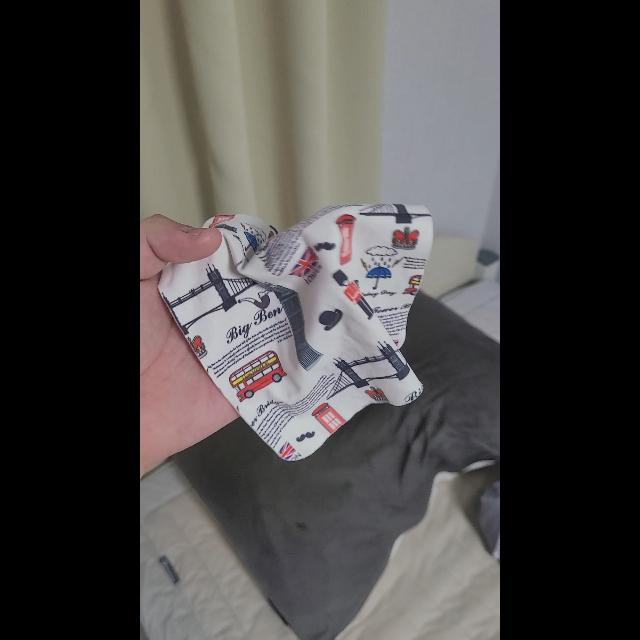Glasses cleaning cloth: (156, 203, 434, 461)
